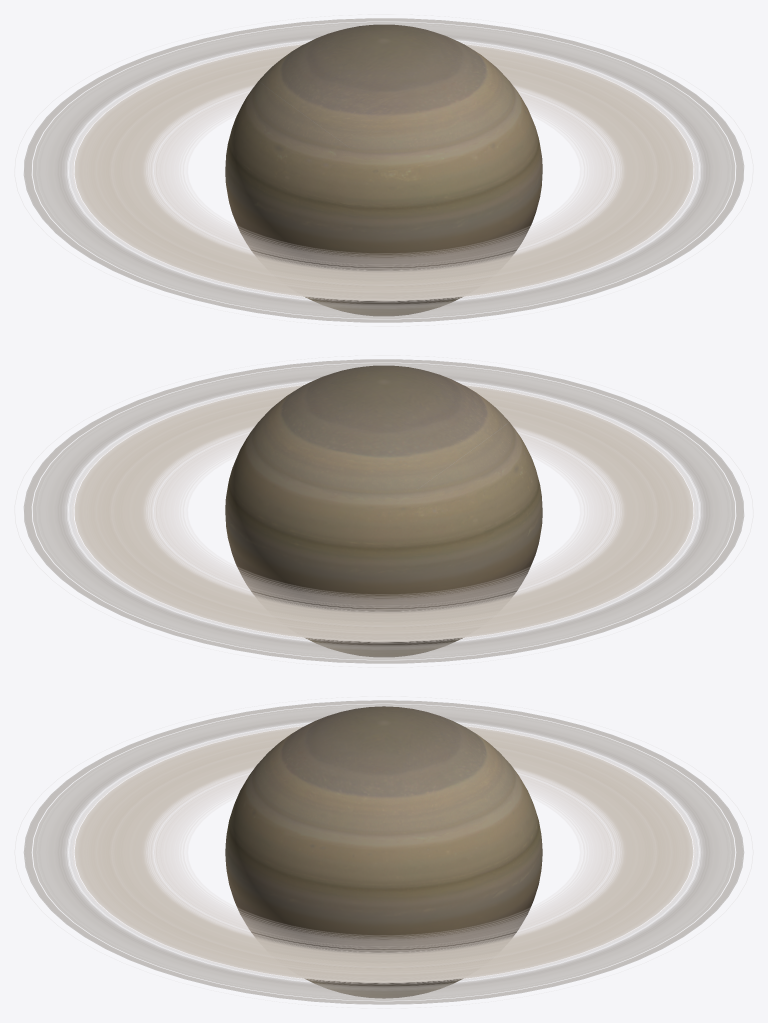
Rendered from saturn.glb.
The picture shows the model from 3 angles, top to bottom: view 1: azimuth 30°, elevation 25°; view 2: azimuth 150°, elevation 25°; view 3: azimuth 270°, elevation 25°; orthographic projection.
Parts seen in each view (by area): view 1: RingsTop_1, Saturn.001_0; view 2: RingsTop_1, Saturn.001_0; view 3: RingsTop_1, Saturn.001_0.
Part boxes in pixels (x1=…): RingsTop_1: x1=23, y1=18, x2=744, y2=322; Saturn.001_0: x1=225, y1=24, x2=542, y2=315; RingsTop_1: x1=23, y1=359, x2=744, y2=663; Saturn.001_0: x1=225, y1=365, x2=542, y2=656; RingsTop_1: x1=23, y1=700, x2=744, y2=1004; Saturn.001_0: x1=225, y1=706, x2=542, y2=998.
Size of the model in its own units: 3.93 by 1.52 by 3.93.
Materials: 2 (2 with a texture image).
